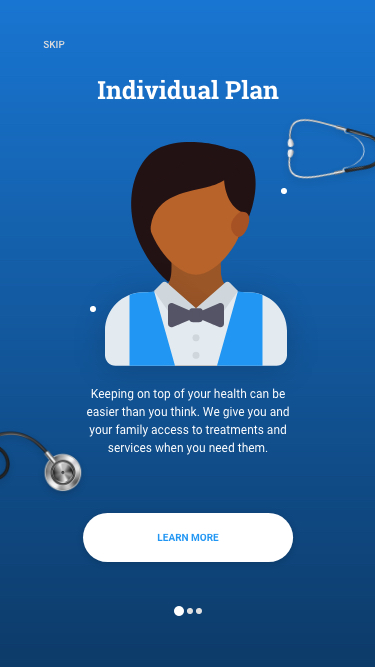Image: (90, 119, 375, 367)
PageIndicator: (173, 605, 204, 618)
Text: (87, 388, 290, 456), (98, 80, 280, 101), (44, 41, 66, 50)
TextButton: (83, 513, 294, 563)
